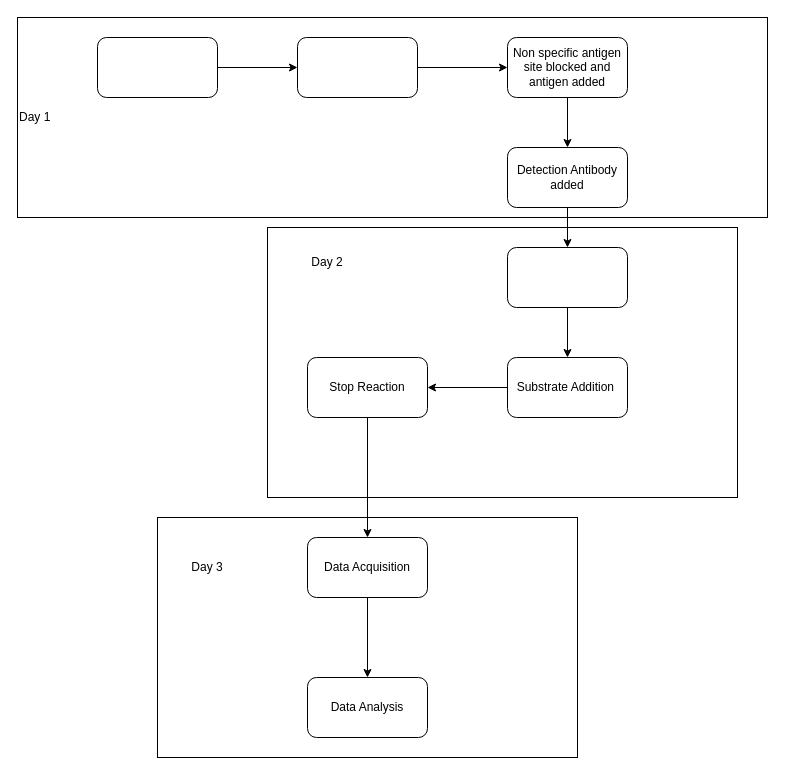
This 785x775 diagram has some shape labels left out. The centre of each missing label's shape, as x and y in pixels:
Plate Preparation (Taking Protein Sample): pixel 157 67
Sample Loading (Ingel Sample Loading): pixel 357 67
Secondary Reagent Added: pixel 567 277
